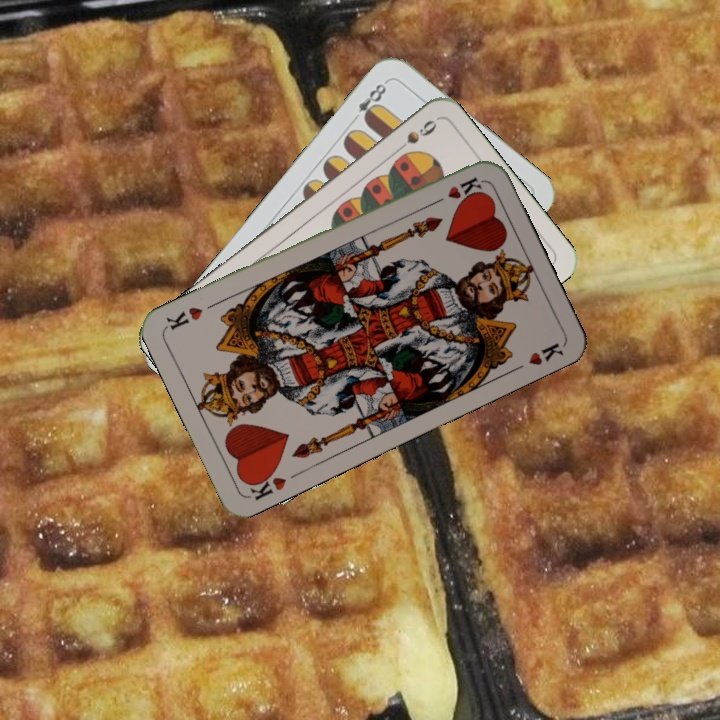E8: (347, 76, 391, 126)
HK: (427, 173, 485, 208), (241, 465, 289, 503)
S9: (389, 116, 440, 158)
